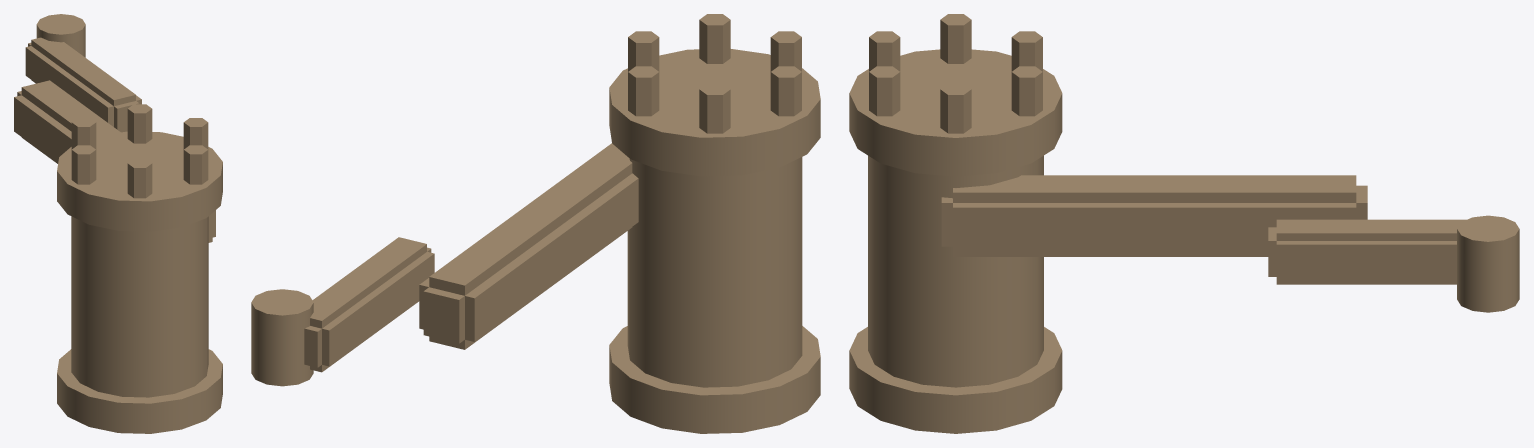
The model's file is ballista_arm.glb.
The picture shows the model from 3 angles, left to right: view 1: azimuth 30°, elevation 25°; view 2: azimuth 150°, elevation 25°; view 3: azimuth 270°, elevation 25°; orthographic projection. The views are drawn at different scales.
Parts seen in each view (by area): view 1: ballista_arm; view 2: ballista_arm; view 3: ballista_arm.
Boxes of the visible parts, x1,y1,x2,y2 form: ballista_arm: [14, 14, 222, 433]; ballista_arm: [251, 14, 820, 433]; ballista_arm: [849, 14, 1519, 433].
Bounding box in the file's own units: 0.232 × 0.26 × 0.472.
